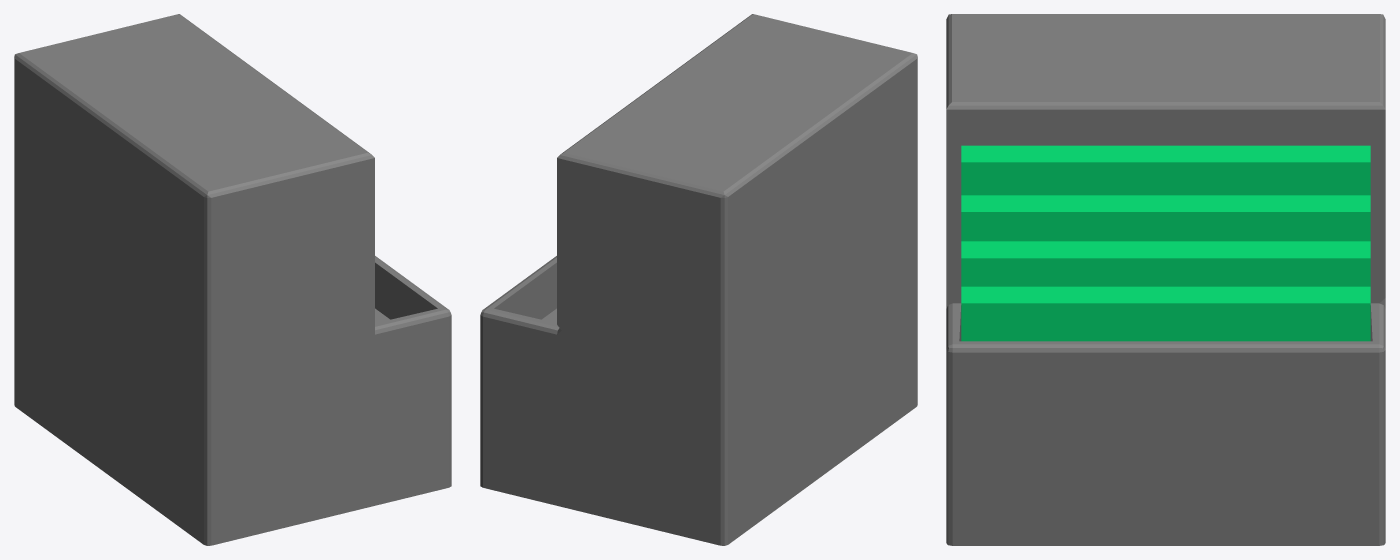
Rendered from StandGreen.fbx.
3 views of the same model, side by side, from view 1: azimuth 30°, elevation 25°; view 2: azimuth 150°, elevation 25°; view 3: azimuth 270°, elevation 25° (orthographic). The views are drawn at different scales.
Visible parts, largest first — view 1: Cube; view 2: Cube; view 3: Cube.
Part boxes in pixels (x1,y1,x2,y2): Cube: (14,14,451,545); Cube: (480,14,917,545); Cube: (946,14,1385,545).
Size of the model in its own units: 147 by 200 by 200.
